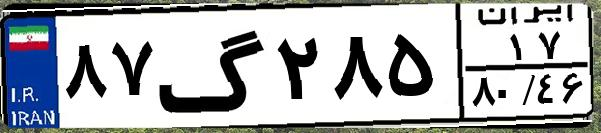0: (495, 70, 520, 125)
1: (508, 27, 537, 80)
2: (270, 28, 330, 110)
4: (535, 70, 560, 125)
5: (385, 28, 445, 110)
6: (560, 70, 590, 125)
7: (110, 28, 156, 98), (537, 27, 568, 80)
8: (330, 28, 385, 110), (57, 26, 110, 100), (470, 70, 495, 125)
گ: (156, 12, 270, 120)
